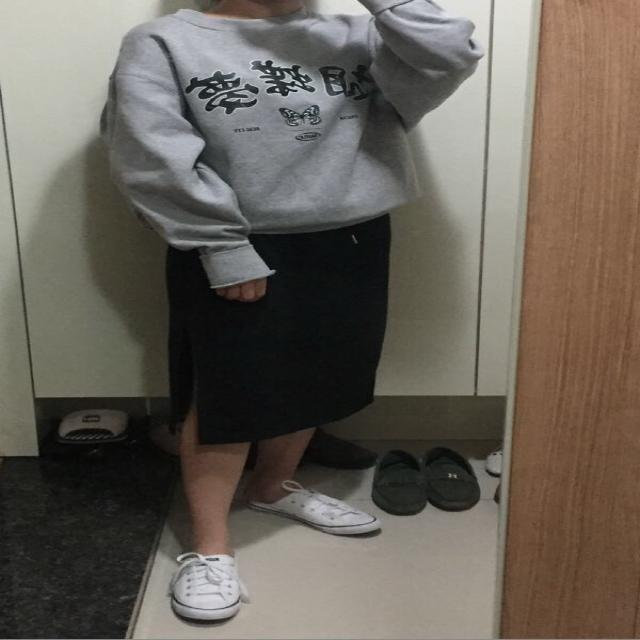mtm: (110, 0, 488, 286)
skirt: (172, 212, 386, 442)
